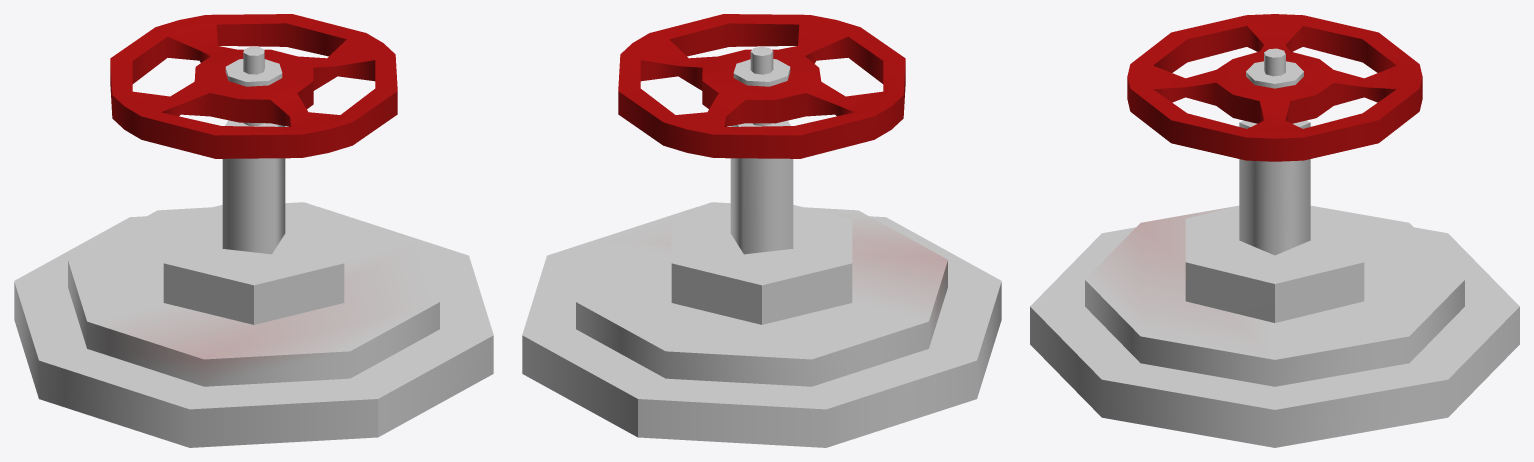
The model's file is SM_H_FutureTech_Continuous_Metal_09_Gray_07_ATLAS.fbx.
3 views of the same model, side by side, from view 1: azimuth 30°, elevation 25°; view 2: azimuth 150°, elevation 25°; view 3: azimuth 270°, elevation 25° (orthographic).
Visible parts, largest first — view 1: SM_H_FutureTech_Continuous_Metal_09_Gray_07_ATLAS; view 2: SM_H_FutureTech_Continuous_Metal_09_Gray_07_ATLAS; view 3: SM_H_FutureTech_Continuous_Metal_09_Gray_07_ATLAS.
Boxes of the visible parts, x1=… form: SM_H_FutureTech_Continuous_Metal_09_Gray_07_ATLAS: x1=14, y1=14, x2=493, y2=447; SM_H_FutureTech_Continuous_Metal_09_Gray_07_ATLAS: x1=522, y1=14, x2=1001, y2=447; SM_H_FutureTech_Continuous_Metal_09_Gray_07_ATLAS: x1=1030, y1=14, x2=1519, y2=447.
Size of the model in its own units: 72.7 by 72.7 by 47.72.
